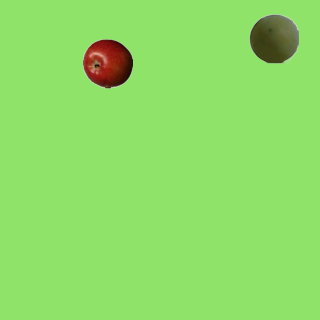Apple Braeburn: (82, 38, 132, 88)
Grape White 4: (248, 13, 298, 63)
